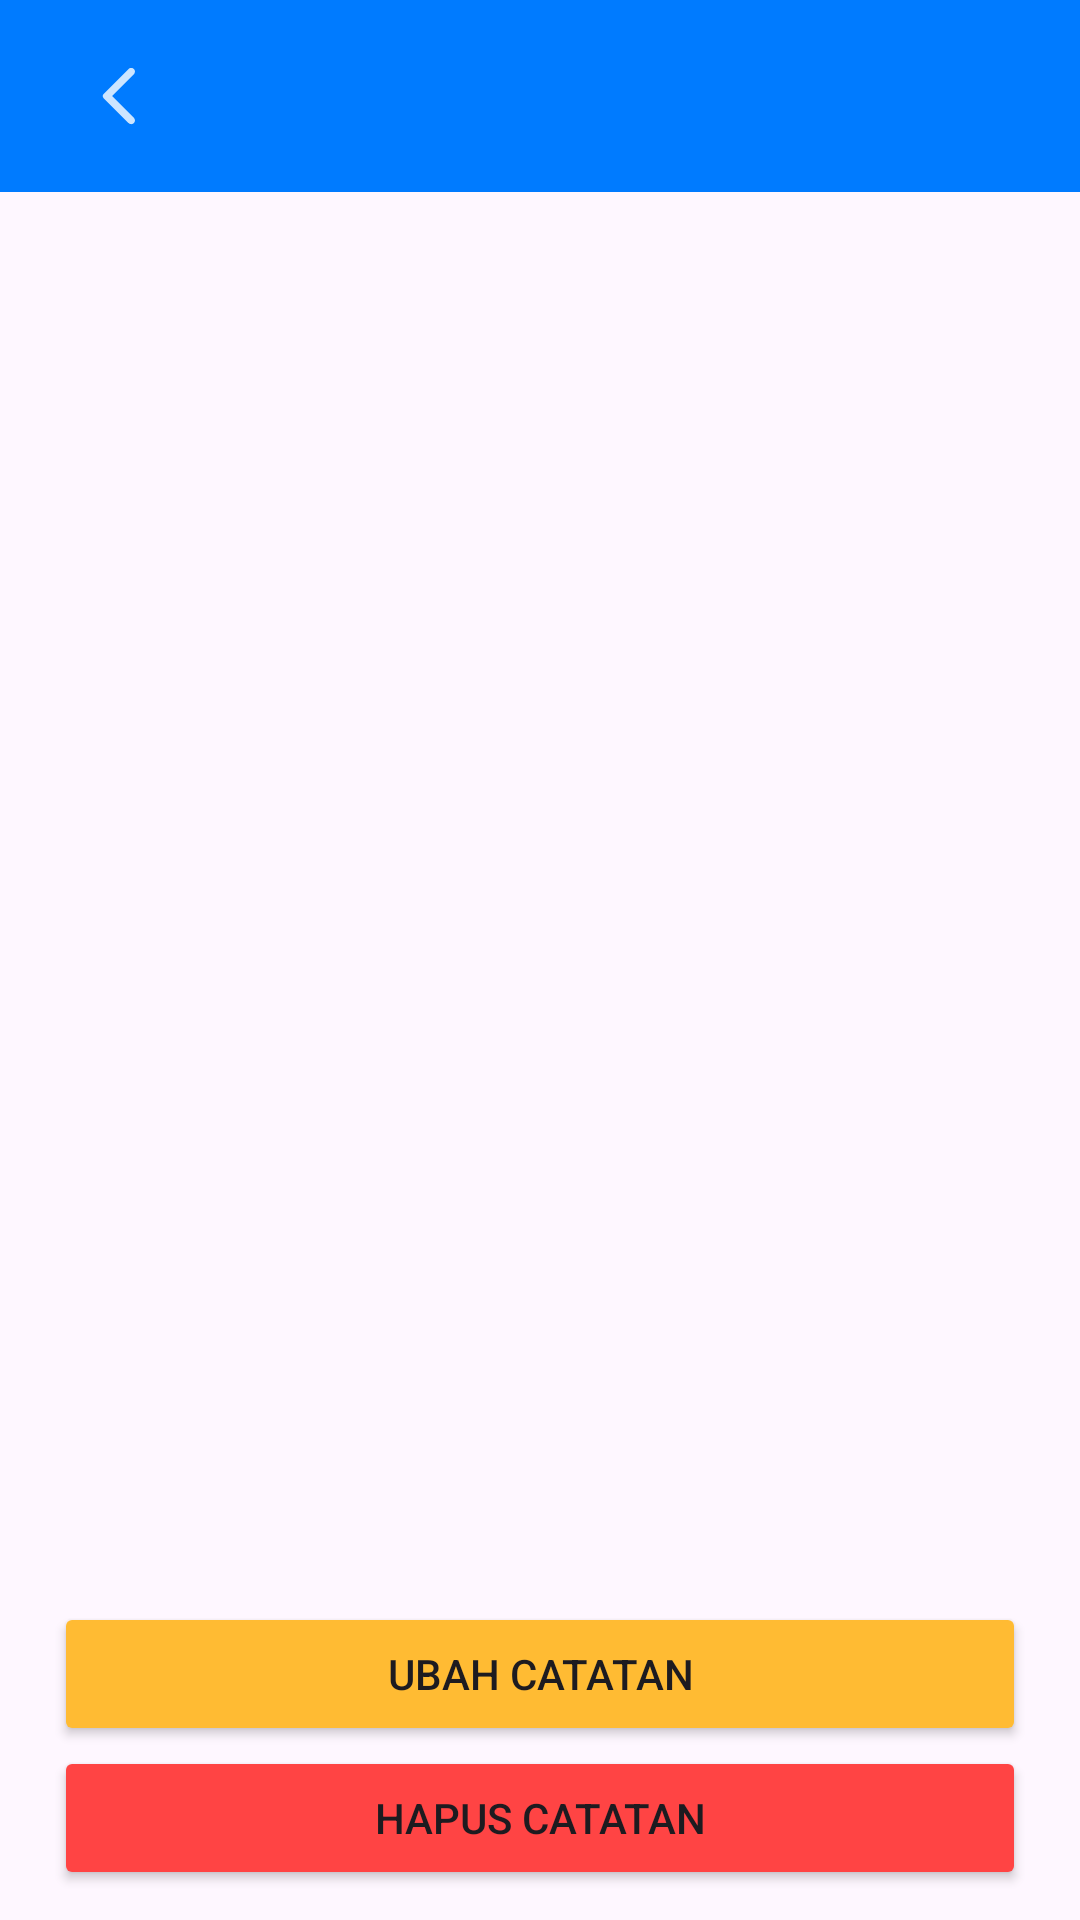

Named icons in this screenshot (1080px×1920px) and their centers, point (x, y):
Back: point (118, 96)
